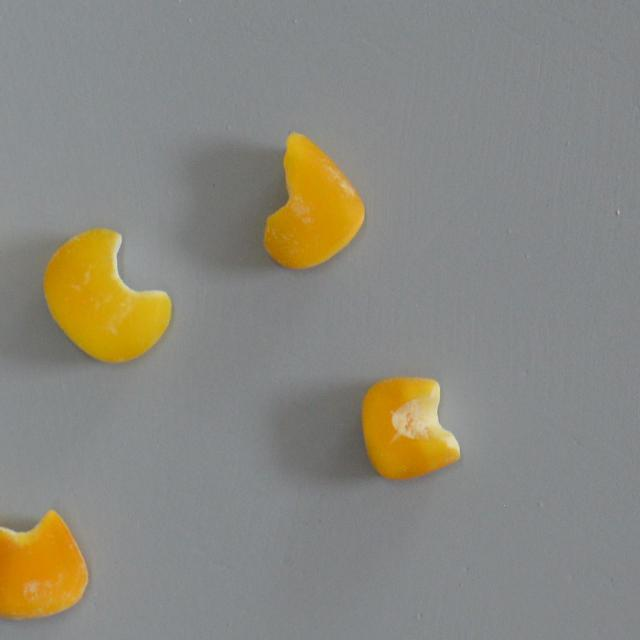no_canjicado: (38, 226, 173, 366), (260, 128, 364, 274), (0, 506, 90, 620)
no_desgerminado: (357, 374, 464, 482)
